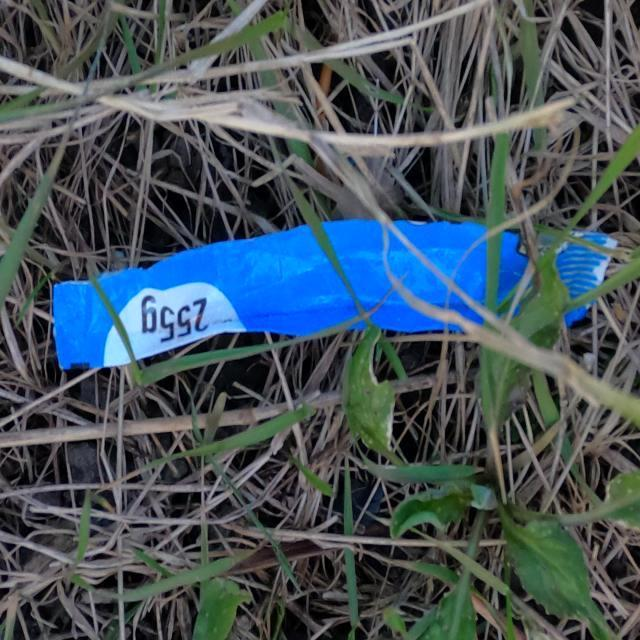Plastic: (50, 218, 620, 372)
